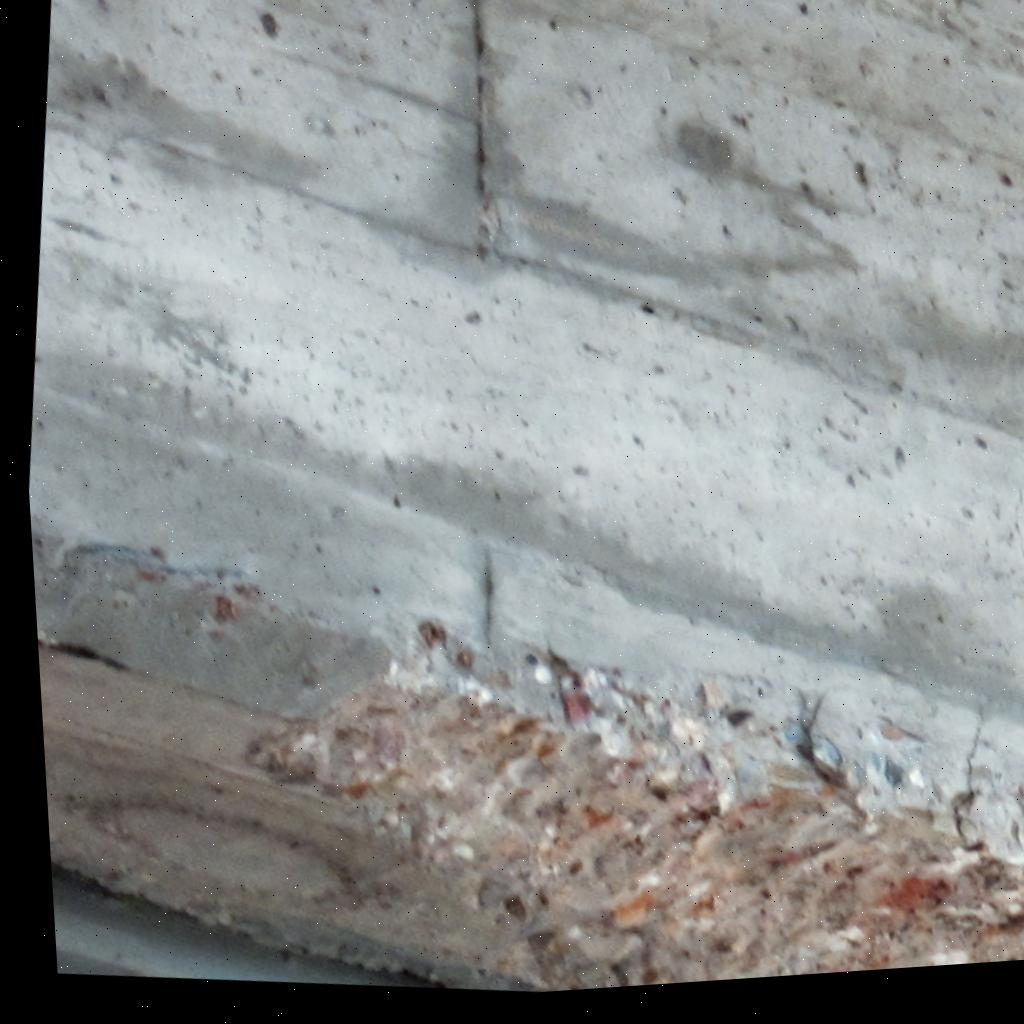spalling: (251, 634, 1024, 992)
